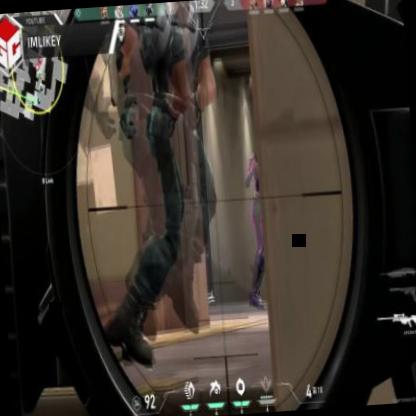enemy: (238, 147, 283, 311)
enemy_head: (254, 148, 268, 172)
